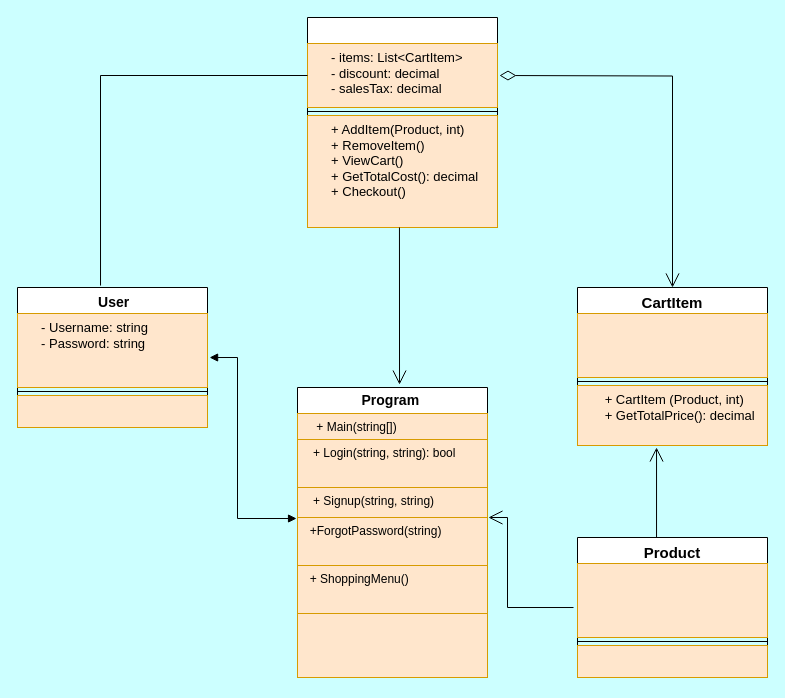
This 785x698 diagram has some shape labels left out. Here are the shapes that lost their labels. From the top down, the box of each, then its label:
(306, 16, 498, 228): ShoppingCart
(576, 312, 768, 378): - Product: Product - Quantity: int
(16, 394, 208, 428): + User(string, string)
(576, 562, 768, 638): - ID: int - Name: string - Price: decimal
(296, 612, 488, 678): +AddItemToCart(ShoppingCart, params Product[])
(576, 644, 768, 678): + Product : string
